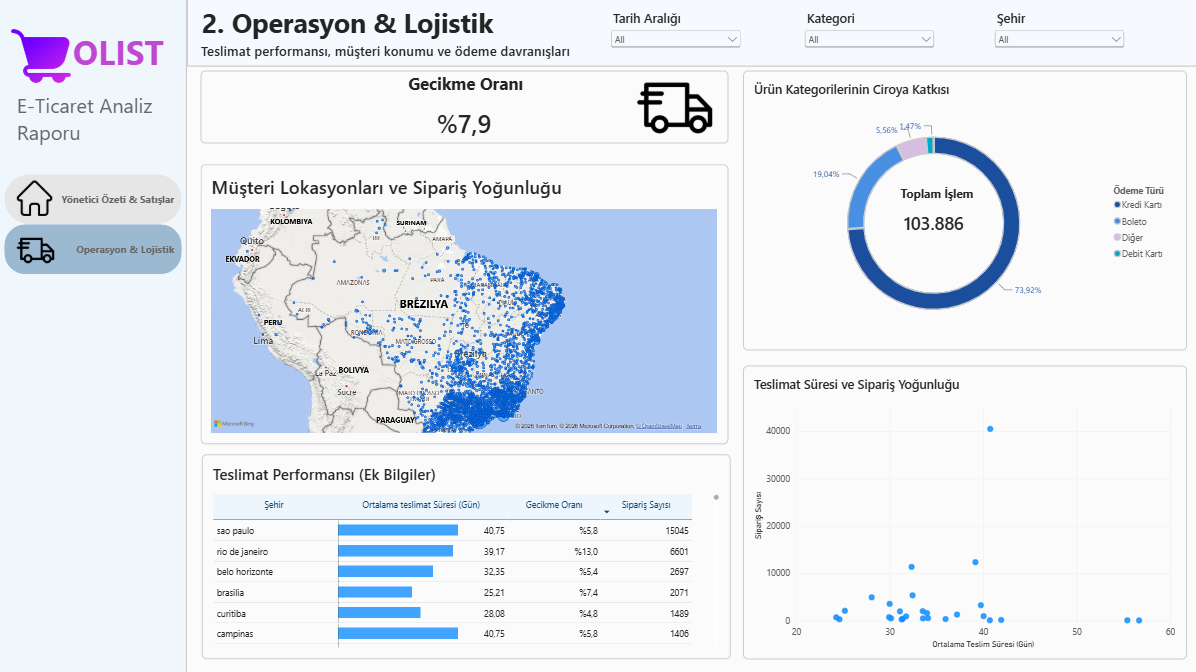

The dashboard page shown, as its layout file describes it:
{"tool":"powerbi","page":{"name":"Operasyon & Lojistik","canvas":[1920,1080],"ordinal":1},"visuals":[{"type":"shape","box":[0,0,302.6,1080.6],"z":0},{"type":"shape","box":[302.2,0,1617.8,110],"z":1000},{"type":"cardVisual","title":"Gecikme Oranı","fields":{"Data":["Measure.Delayed Order Rate"]},"box":[323.3,116.7,845,116.7],"z":2000},{"type":"map","title":"Müşteri Lokasyonları ve Sipariş Yoğunluğu","fields":{"Category":["vw_sales_performance.customer_city","vw_sales_performance.customer_state"],"Size":["CountNonNull(vw_sales_performance.order_id)"]},"box":[323.3,266.7,845,448.3],"z":5000},{"type":"tableEx","title":"Teslimat Performansı (Ek Bilgiler)","fields":{"Values":["vw_sales_performance.customer_city","Avg(vw_delivery_analysis.avg_delivery_days)","Measure.Delayed Order Rate","Measure.Total Orders"]},"box":[325,730,846,328],"z":8000},{"type":"donutChart","title":"Ürün Kategorilerinin Ciroya Katkısı","fields":{"Y":["Sum(payment_behavior.total_transactions)"],"Category":["payment_behavior.Odeme_Turu_TR"]},"box":[1191.7,116.7,710,448.3],"z":9000},{"type":"textbox","box":[1425,300,152.5,35],"z":10000},{"type":"textbox","box":[325,10,575.7,82.9],"z":11000},{"type":"textbox","box":[280,70,680,65],"z":12000},{"type":"slicer","title":"Tarih Aralığı","fields":{"Values":["vw_sales_performance.year","vw_sales_performance.Month_name"]},"box":[975,18.3,216.7,104.4],"z":13000},{"type":"slicer","title":"Tarih Aralığı","fields":{"Values":["vw_sales_performance.customer_city"]},"box":[1590,18,216.7,104.4],"z":14000},{"type":"slicer","title":"Tarih Aralığı","fields":{"Values":["vw_category_performance.category_name"]},"box":[1286,18,216.7,104.4],"z":15000},{"type":"textbox","box":[120,50,160,98.3],"z":16000},{"type":"textbox","box":[30,150,291.7,166.7],"z":17000},{"type":"actionButton","box":[10,282,284,80],"z":18000},{"type":"image","box":[18.3,25,101.7,133.3],"z":19000},{"type":"actionButton","box":[10,362,284,80],"z":20000},{"type":"image","box":[30,292.2,56.7,56.7],"z":21000},{"type":"image","box":[30,374.4,60,60],"z":22000},{"type":"image","box":[921.7,116.7,321.7,120],"z":22001},{"type":"scatterChart","title":"Teslimat Süresi ve Sipariş Yoğunluğu","fields":{"X":["Avg(vw_delivery_analysis.avg_delivery_days)"],"Category":["vw_delivery_analysis.customer_state"],"Y":["Measure.Total Orders"]},"box":[1191.4,588.6,710,470],"z":22002}]}

Visuals, with their boxes on the page's 1920x1080 design canvas (x1, y1, x2, y2). These are canvas units, not pixel positions in the 1196x672 screenshot, which may show the page scaled, cropped or inside an application window:
shape: 0:0:303:1081
shape: 302:0:1920:110
"Gecikme Oranı" cardVisual: 323:117:1168:233
"Müşteri Lokasyonları ve Sipariş Yoğunluğu" map: 323:267:1168:715
"Teslimat Performansı (Ek Bilgiler)" tableEx: 325:730:1171:1058
"Ürün Kategorilerinin Ciroya Katkısı" donutChart: 1192:117:1902:565
textbox: 1425:300:1578:335
textbox: 325:10:901:93
textbox: 280:70:960:135
"Tarih Aralığı" slicer: 975:18:1192:123
"Tarih Aralığı" slicer: 1590:18:1807:122
"Tarih Aralığı" slicer: 1286:18:1503:122
textbox: 120:50:280:148
textbox: 30:150:322:317
actionButton: 10:282:294:362
image: 18:25:120:158
actionButton: 10:362:294:442
image: 30:292:87:349
image: 30:374:90:434
image: 922:117:1243:237
"Teslimat Süresi ve Sipariş Yoğunluğu" scatterChart: 1191:589:1901:1059
